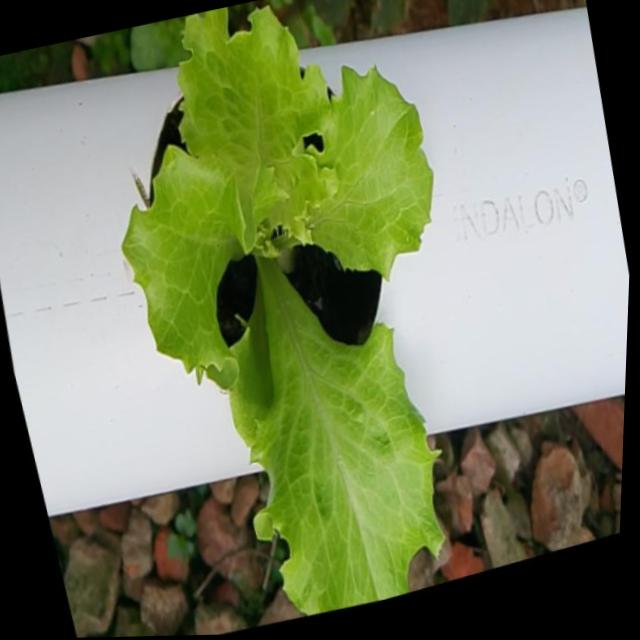Baby: (134, 6, 450, 613)
